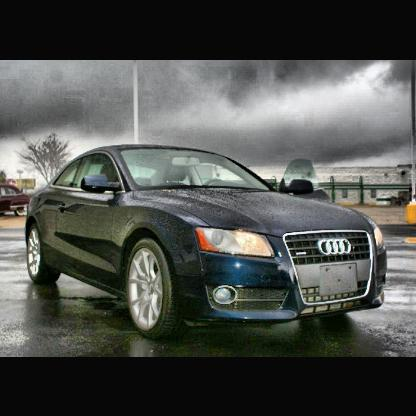Audi A5 Coupe 2012: (23, 142, 390, 338)
